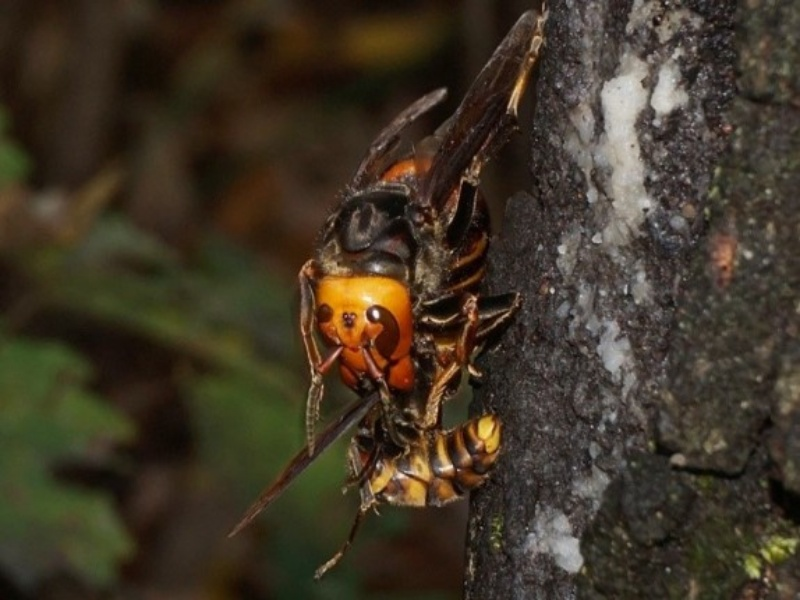asian_giant_hornet: (295, 22, 546, 402)
